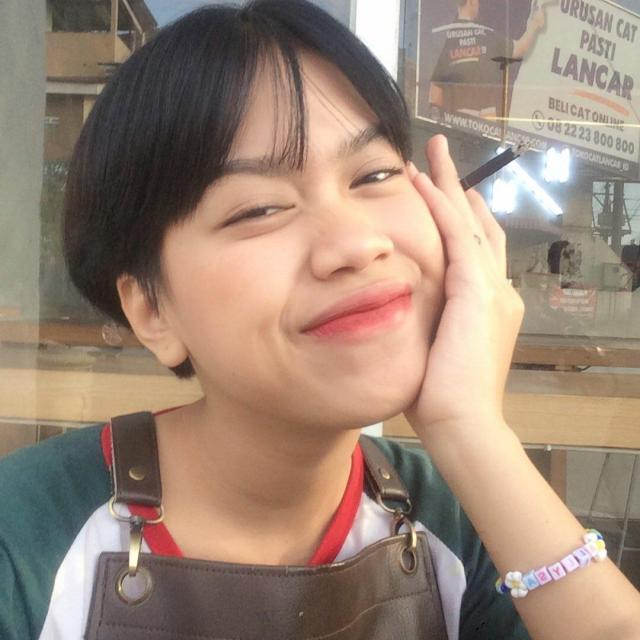rokok: (459, 138, 536, 194)
